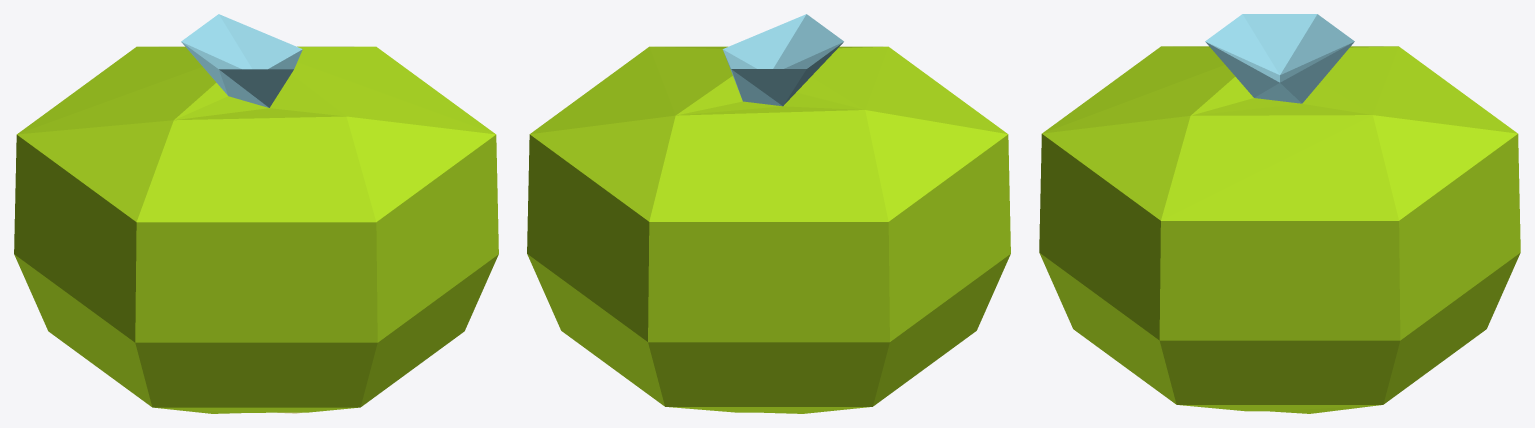
File: Cactus.glb
3 views of the same model, side by side, from view 1: azimuth 30°, elevation 25°; view 2: azimuth 150°, elevation 25°; view 3: azimuth 270°, elevation 25° (orthographic).
Parts seen in each view (by area): view 1: Cactus; view 2: Cactus; view 3: Cactus.
Boxes of the visible parts, x1=… form: Cactus: x1=14, y1=14, x2=498, y2=413; Cactus: x1=527, y1=14, x2=1010, y2=413; Cactus: x1=1039, y1=14, x2=1520, y2=413.
Size of the model in its own units: 1.05 by 0.9756 by 1.22.
1 material, 1 textured.
